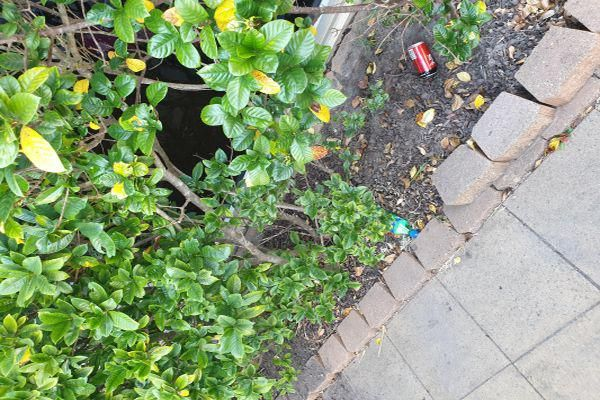Plastic Bottle: (407, 41, 440, 80), (375, 208, 418, 237)
